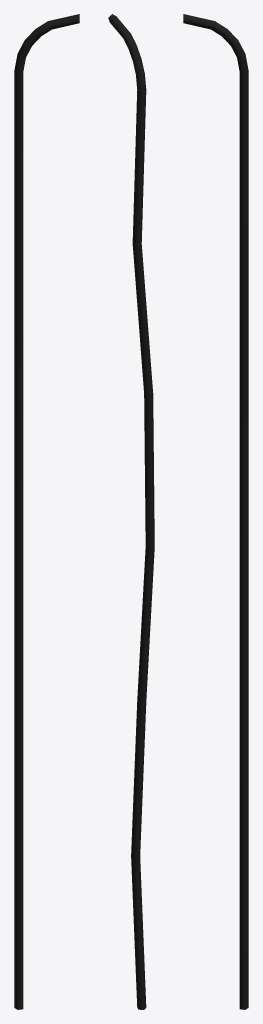
File: FBX_Cable_DeskLamp.fbx
The picture shows the model from 3 angles, left to right: view 1: azimuth 90°, elevation 25°; view 2: azimuth 210°, elevation 25°; view 3: azimuth 270°, elevation 25°; orthographic projection. The views are drawn at different scales.
Parts seen in each view (by area): view 1: SM_Cable_DeskLamp; view 2: SM_Cable_DeskLamp; view 3: SM_Cable_DeskLamp.
Part boxes in pixels (x1,y1,x2,y2): SM_Cable_DeskLamp: (14,14,79,1009); SM_Cable_DeskLamp: (108,14,154,1009); SM_Cable_DeskLamp: (183,14,248,1009).
Bounding box in the file's own units: 0.0189 × 0.7784 × 0.0462.
